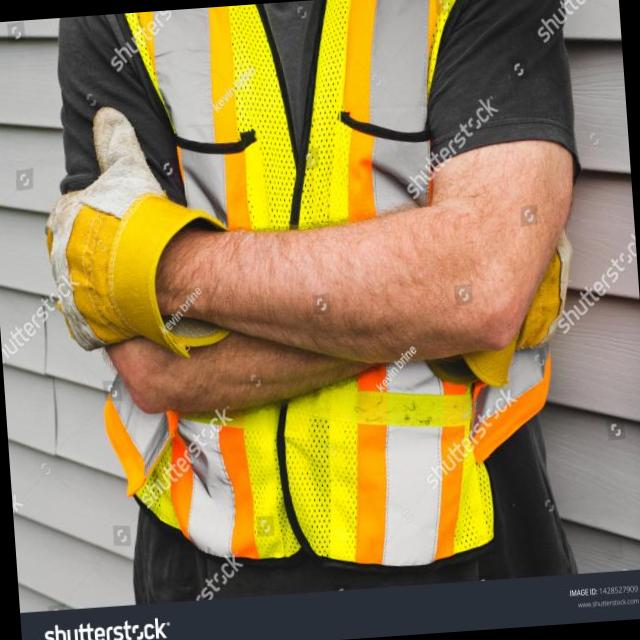Gloves: (30, 101, 225, 373)
Vest: (113, 0, 525, 592)
